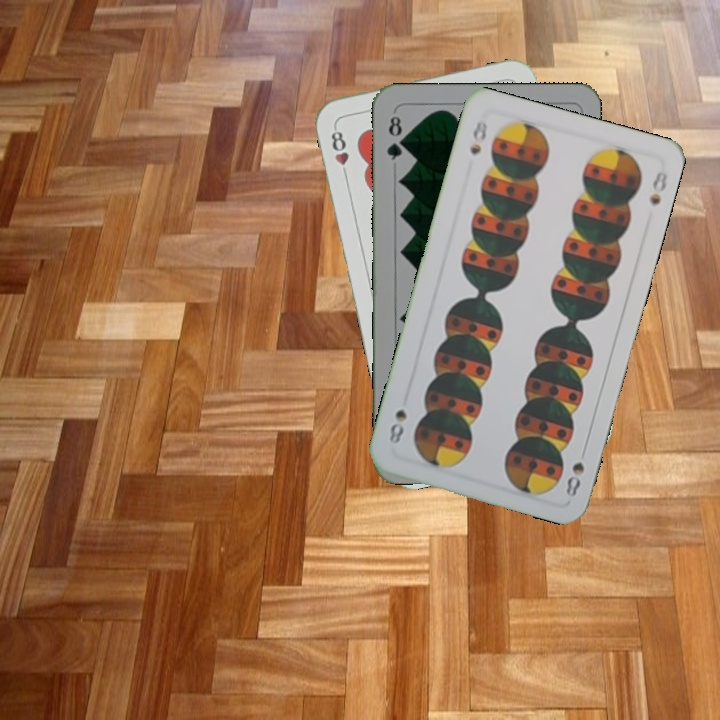G8: (382, 109, 406, 163)
H8: (327, 122, 352, 181)
S8: (561, 442, 589, 500), (465, 115, 490, 158)
